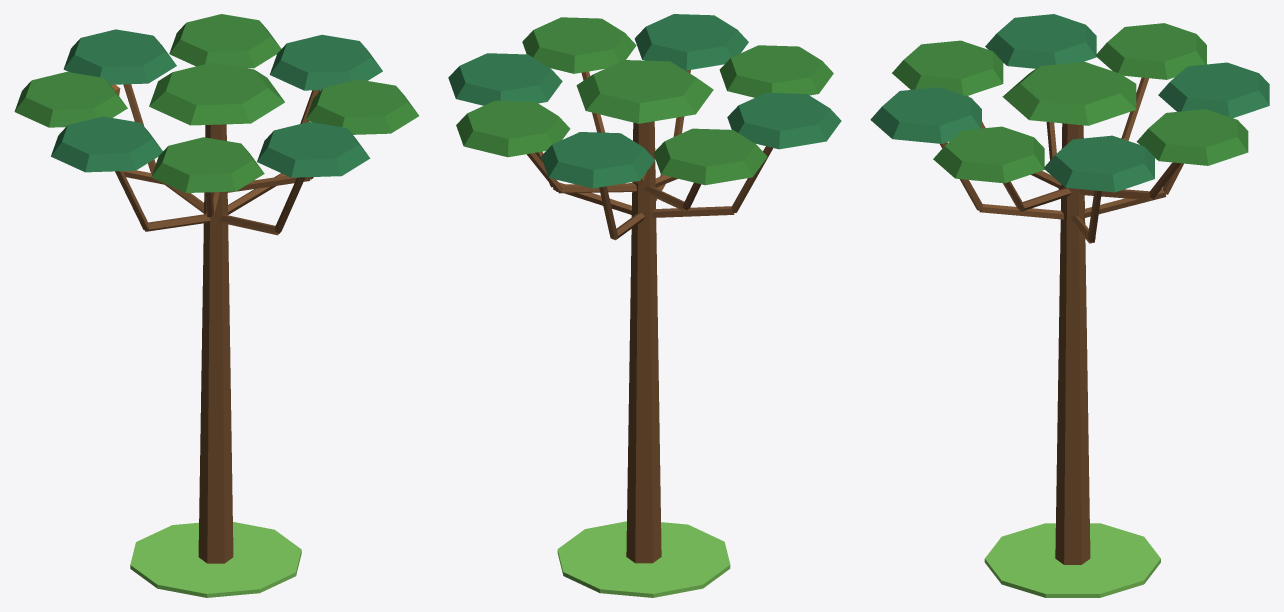
The model's file is kit-cidade-araucaria.glb.
3 views of the same model, side by side, from view 1: azimuth 30°, elevation 25°; view 2: azimuth 150°, elevation 25°; view 3: azimuth 270°, elevation 25° (orthographic).
Visible parts, largest first — view 1: corpo; view 2: corpo; view 3: corpo.
Part boxes in pixels (x1,y1,x2,y2): corpo: (14, 14, 418, 597); corpo: (448, 14, 841, 597); corpo: (870, 14, 1269, 597).
Bounding box in the file's own units: 1.37 × 1.8 × 1.36.
